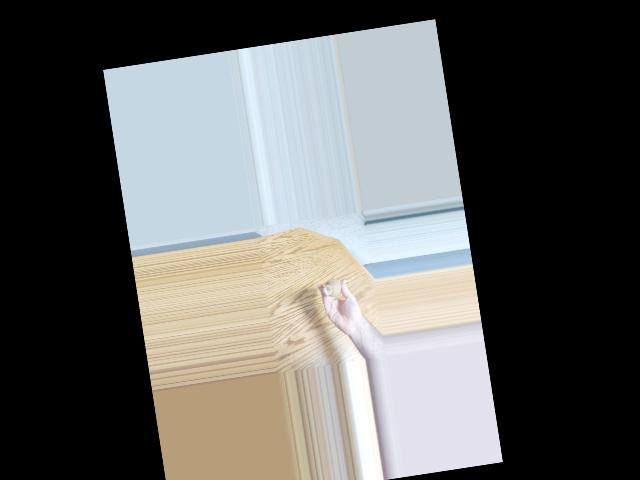sweet_potato: (322, 276, 342, 297)
